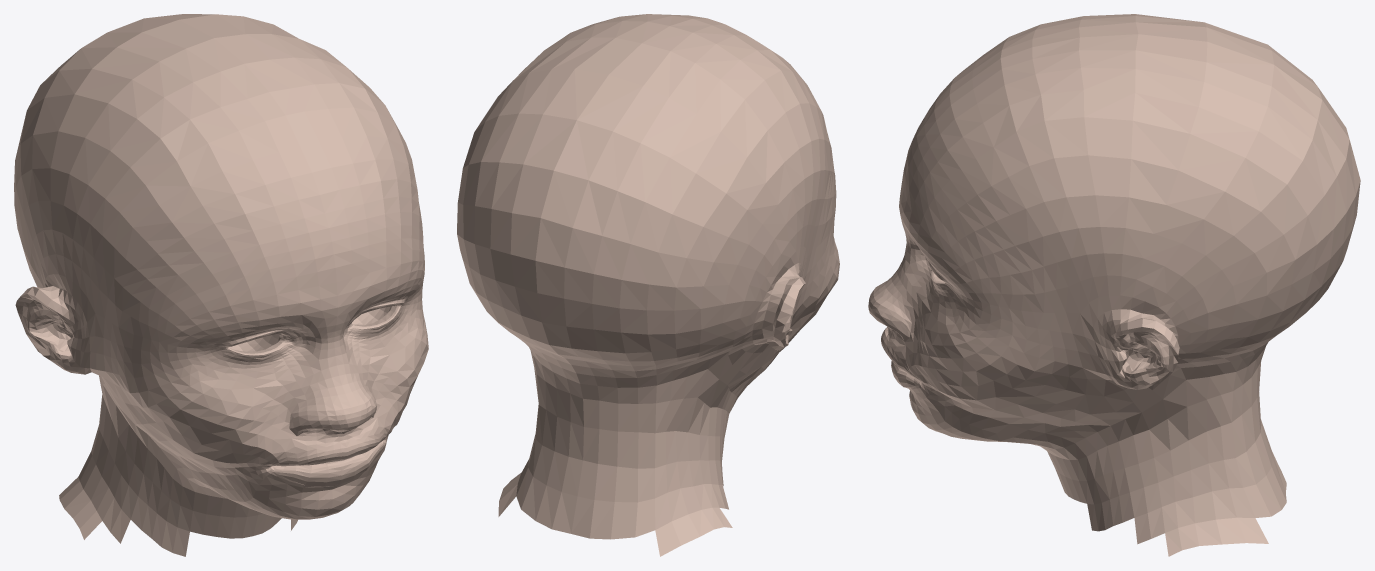
Rendered from karma_face_MH_neutral_X.glb.
The picture shows the model from 3 angles, left to right: view 1: azimuth 30°, elevation 25°; view 2: azimuth 150°, elevation 25°; view 3: azimuth 270°, elevation 25°; orthographic projection. The views are drawn at different scales.
Visible parts, largest first — view 1: head; view 2: head; view 3: head.
Boxes of the visible parts, x1,y1,x2,y2 form: head: (14,14,428,556); head: (457,14,839,556); head: (868,14,1360,556).
Size of the model in its own units: 3.03 by 3.91 by 3.7.
